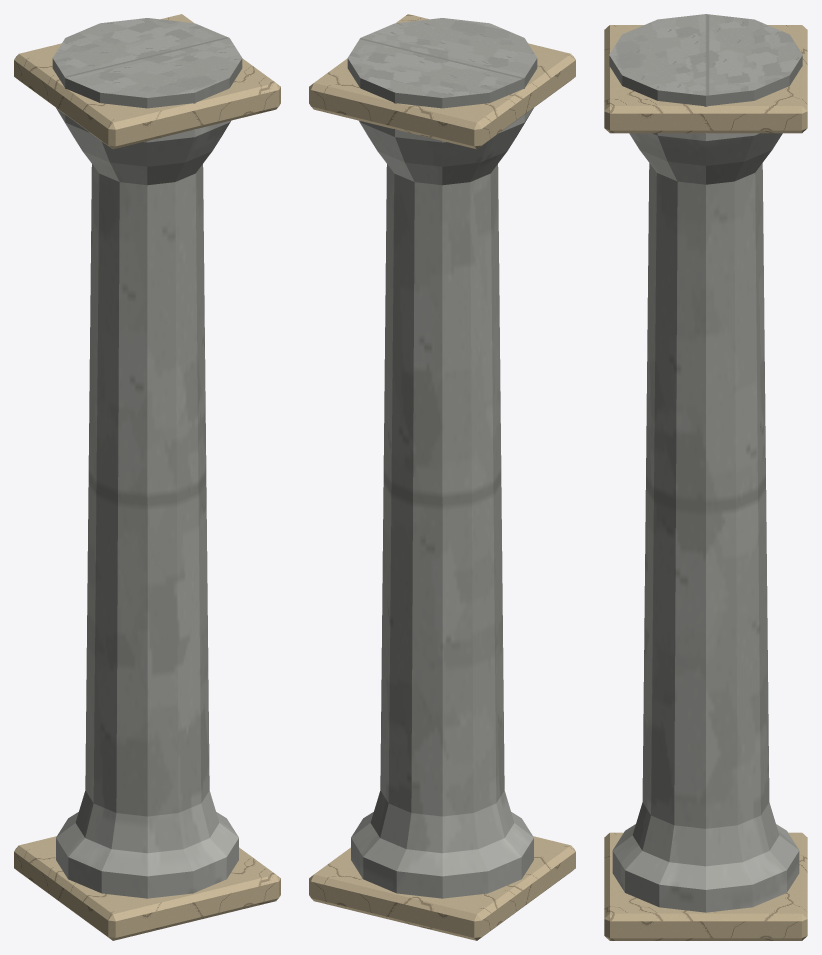
The model's file is MD_13_DecorativeColumn.fbx.
The picture shows the model from 3 angles, left to right: view 1: azimuth 30°, elevation 25°; view 2: azimuth 150°, elevation 25°; view 3: azimuth 270°, elevation 25°; orthographic projection. The views are drawn at different scales.
Visible parts, largest first — view 1: MD_13_DecorativeColumn_column, MD_13_DecorativeColumn_column_square_cap, MD_13_DecorativeColumn_column_square_cap.001; view 2: MD_13_DecorativeColumn_column, MD_13_DecorativeColumn_column_square_cap, MD_13_DecorativeColumn_column_square_cap.001; view 3: MD_13_DecorativeColumn_column, MD_13_DecorativeColumn_column_square_cap, MD_13_DecorativeColumn_column_square_cap.001.
Boxes of the visible parts, <box> form: MD_13_DecorativeColumn_column: <box>52,18,242,898</box>; MD_13_DecorativeColumn_column_square_cap: <box>14,836,280,940</box>; MD_13_DecorativeColumn_column_square_cap.001: <box>14,14,280,149</box>; MD_13_DecorativeColumn_column: <box>347,18,537,898</box>; MD_13_DecorativeColumn_column_square_cap: <box>309,836,575,940</box>; MD_13_DecorativeColumn_column_square_cap.001: <box>309,14,575,149</box>; MD_13_DecorativeColumn_column: <box>609,14,802,912</box>; MD_13_DecorativeColumn_column_square_cap: <box>604,832,807,940</box>; MD_13_DecorativeColumn_column_square_cap.001: <box>604,25,807,133</box>.
Size of the model in its own units: 0.61 by 2.8 by 0.61.
2 materials, 2 textured.
